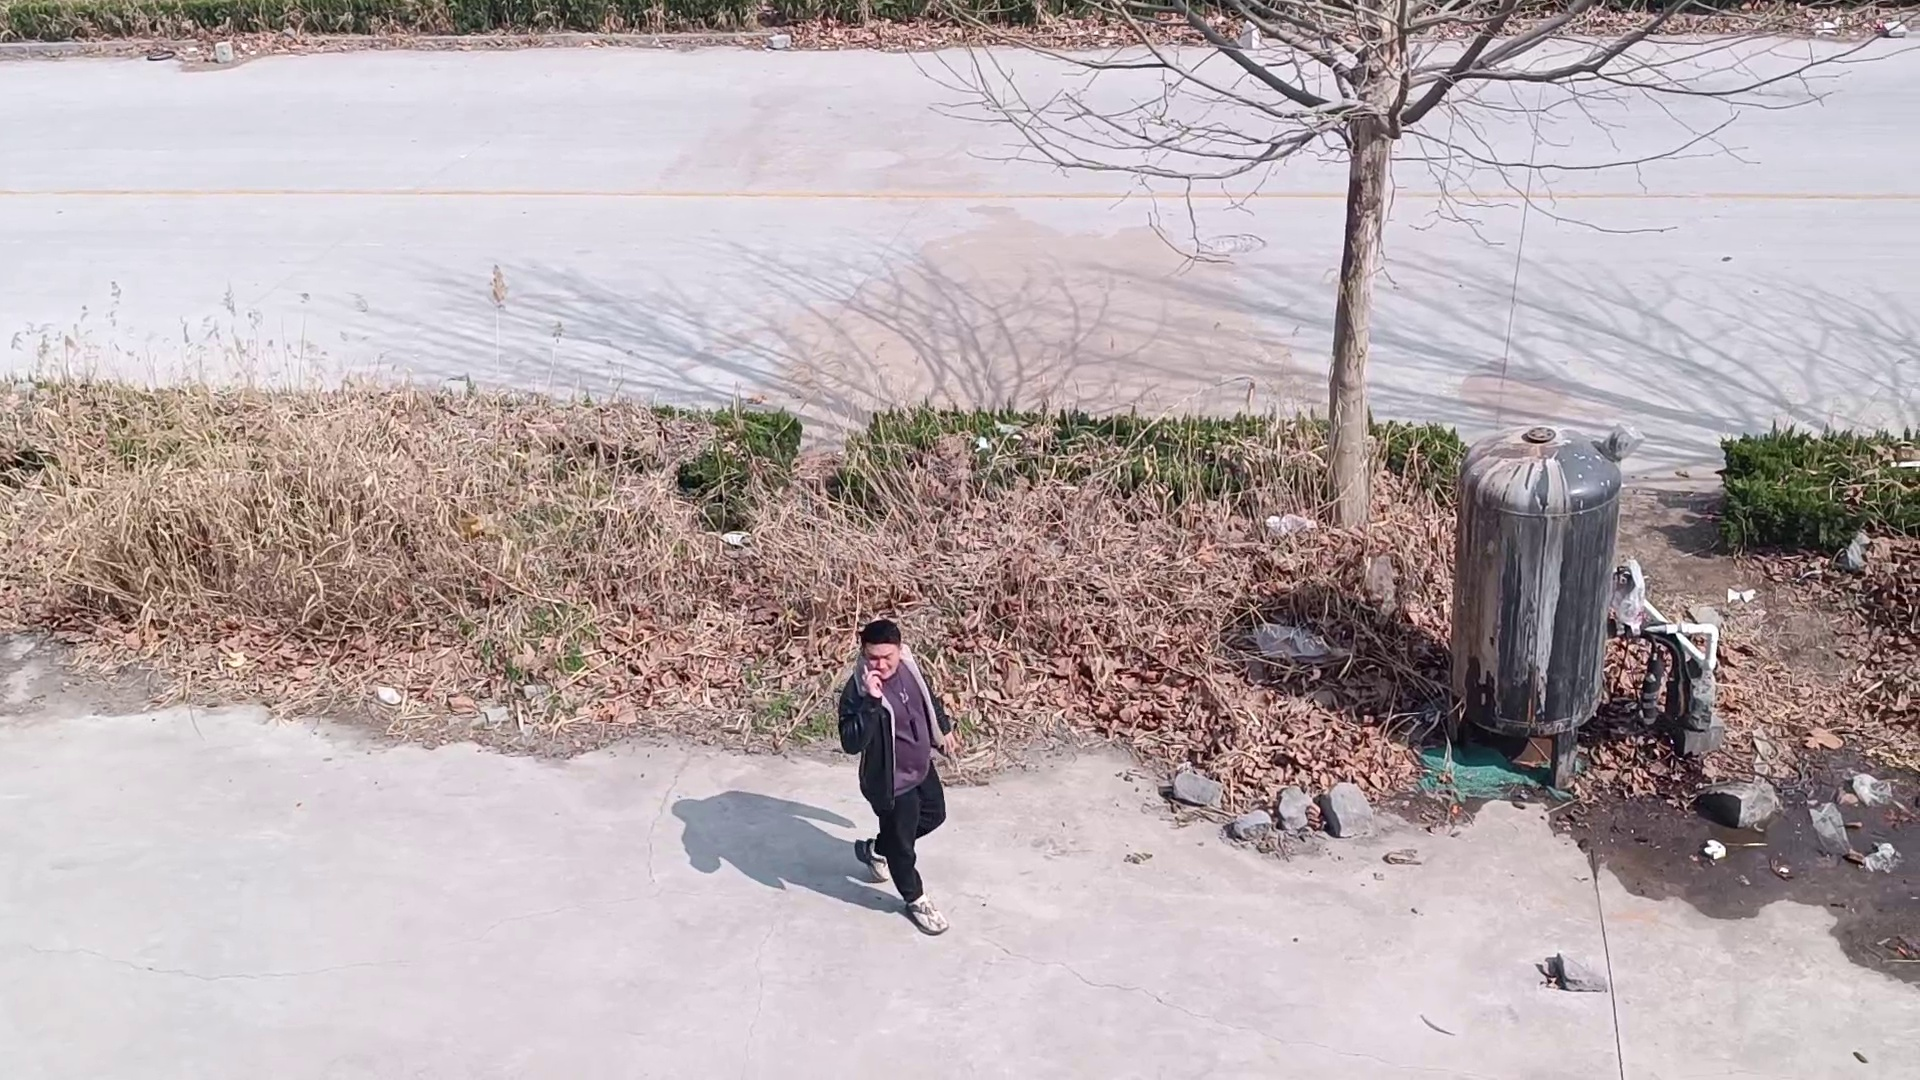phone: (856, 620, 897, 694)
